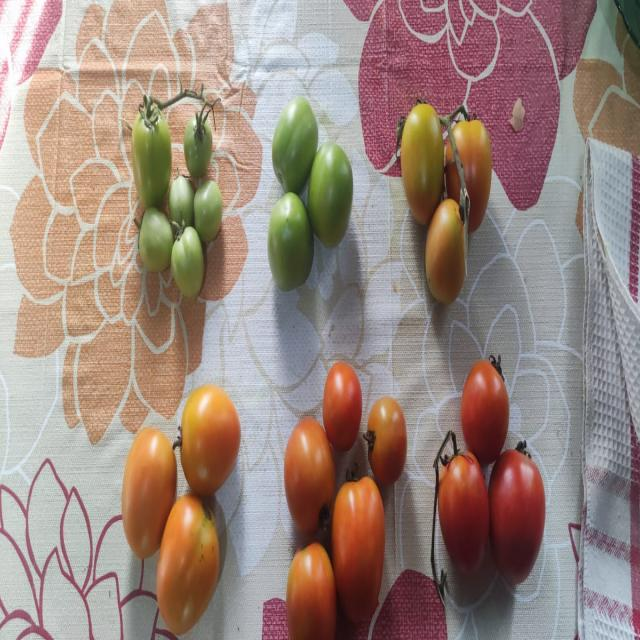ripe tomato: (156, 492, 220, 634), (488, 439, 546, 586), (331, 473, 386, 624), (120, 425, 178, 559), (436, 437, 489, 575), (177, 382, 241, 496), (283, 415, 335, 534), (444, 115, 492, 233), (400, 100, 444, 226), (460, 353, 509, 464), (424, 191, 470, 305), (286, 542, 336, 638), (362, 395, 408, 485), (322, 360, 362, 452)
unripe tomato: (307, 140, 353, 248), (266, 191, 314, 292), (130, 94, 172, 208), (271, 94, 318, 194), (183, 100, 216, 177)
